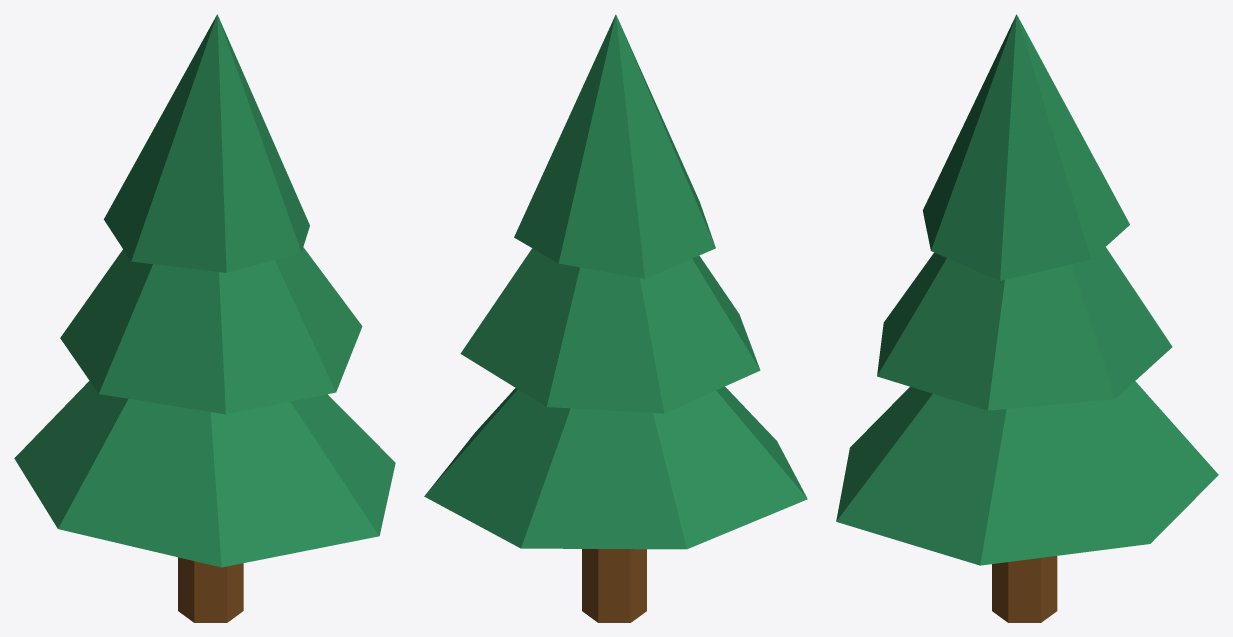
The model's file is cay-thong.glb.
3 views of the same model, side by side, from view 1: azimuth 30°, elevation 25°; view 2: azimuth 150°, elevation 25°; view 3: azimuth 270°, elevation 25° (orthographic).
Visible parts, largest first — view 1: cay-thong; view 2: cay-thong; view 3: cay-thong.
Part boxes in pixels (x1,y1,x2,y2): cay-thong: (14,14,395,622); cay-thong: (424,14,807,622); cay-thong: (836,14,1218,622).
Bounding box in the file's own units: 2.13 × 3.62 × 2.1.
